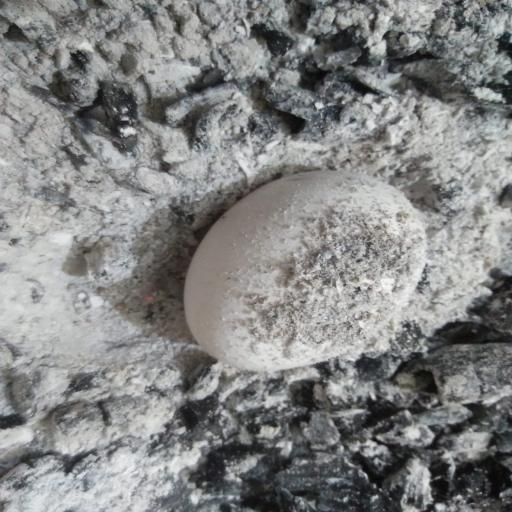telur: (182, 164, 436, 390)
